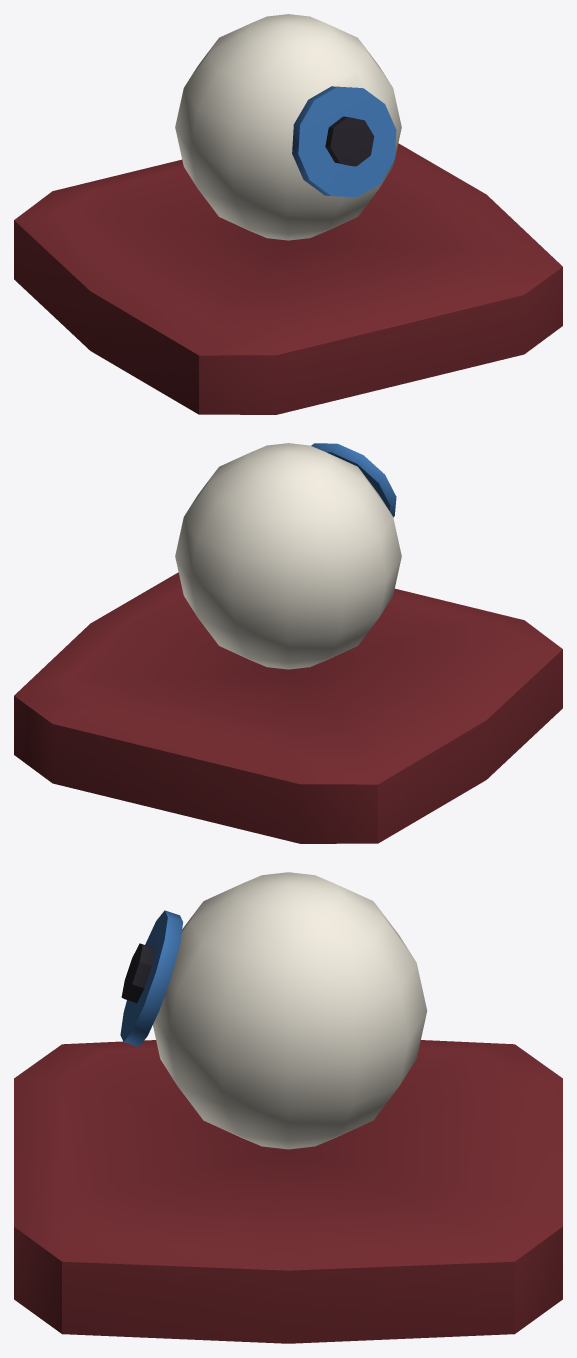
Rendered from curio_glassEye.glb.
The picture shows the model from 3 angles, top to bottom: view 1: azimuth 30°, elevation 25°; view 2: azimuth 150°, elevation 25°; view 3: azimuth 270°, elevation 25°; orthographic projection. The views are drawn at different scales.
Parts seen in each view (by area): view 1: curio_glassEye; view 2: curio_glassEye; view 3: curio_glassEye.
Part boxes in pixels (x1=…): curio_glassEye: x1=14, y1=14, x2=562, y2=414; curio_glassEye: x1=14, y1=443, x2=562, y2=843; curio_glassEye: x1=14, y1=872, x2=562, y2=1343.
Bounding box in the file's own units: 0.0686 × 0.049 × 0.0672.
